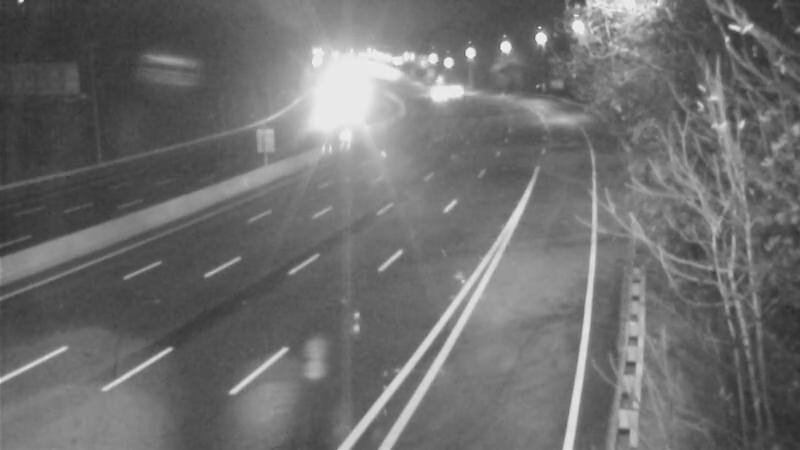vehicle: (411, 66, 461, 116), (432, 66, 482, 116), (308, 85, 358, 135)
